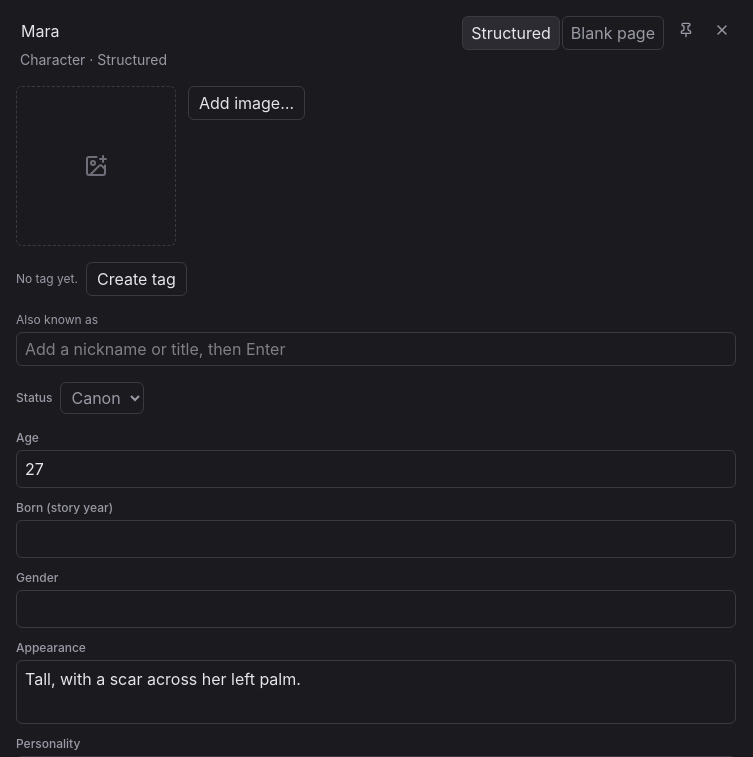
Test: EntityEditor (F-9.3) › a chosen image is shown from the project´s assets and can be replaced or removed
Click the button "Add image…" at [246, 103], box [188, 86, 305, 120]
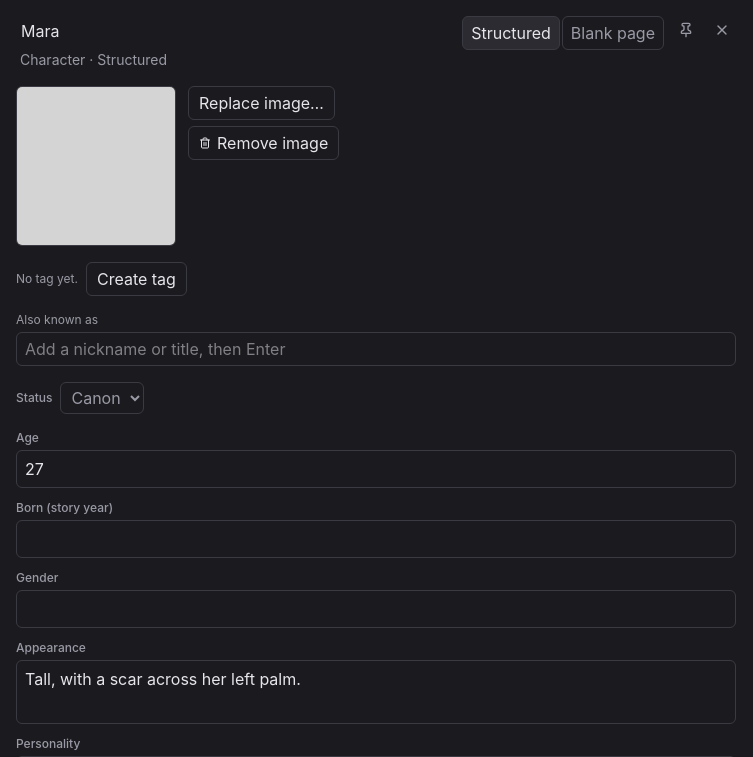
Result: the button "Replace image…" is shown at [188, 86, 335, 120]
Click the button "Remove image" at [264, 143], box [188, 126, 339, 160]
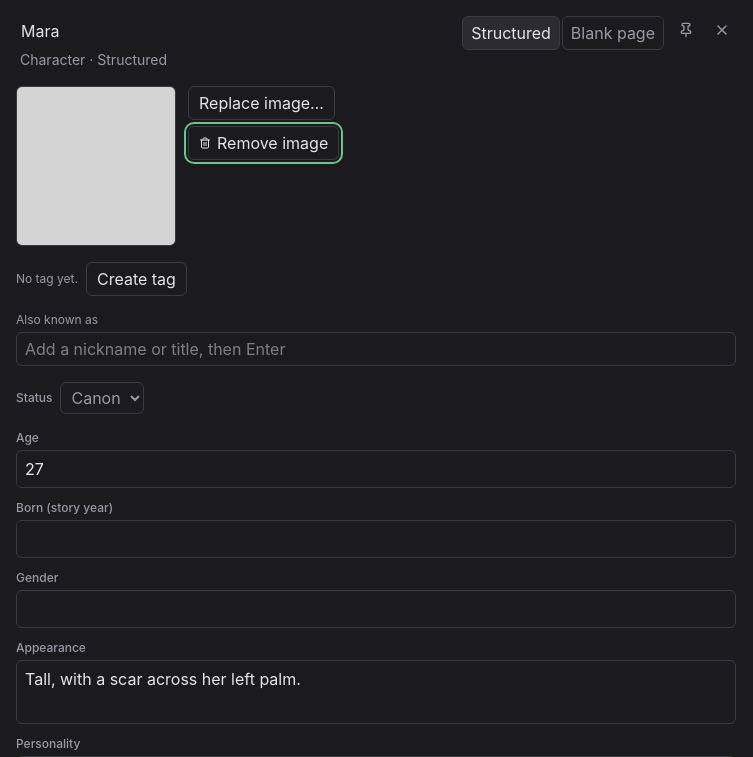
Click the button "Remove image" at [264, 143], box [188, 126, 339, 160]
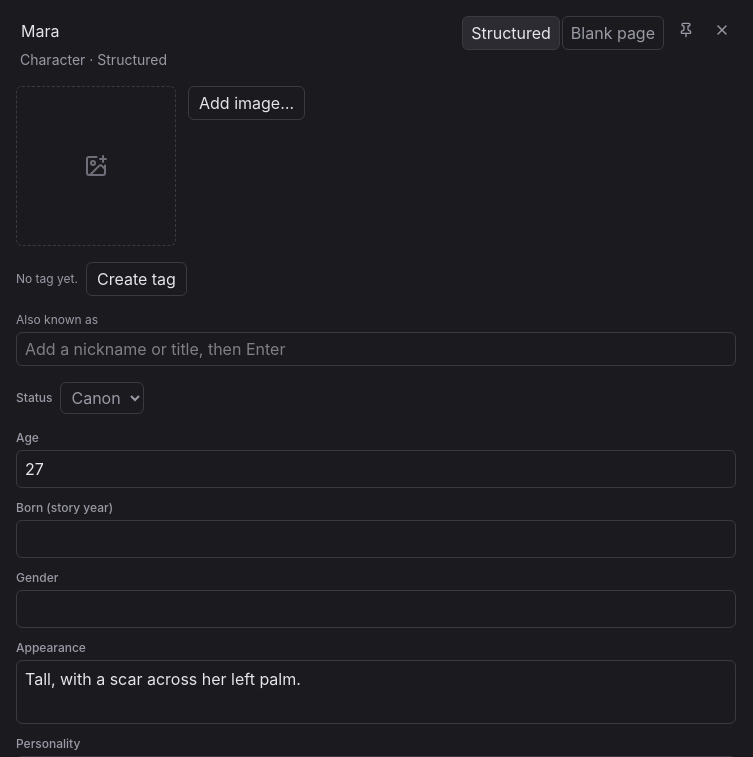
Result: the picture is gone
